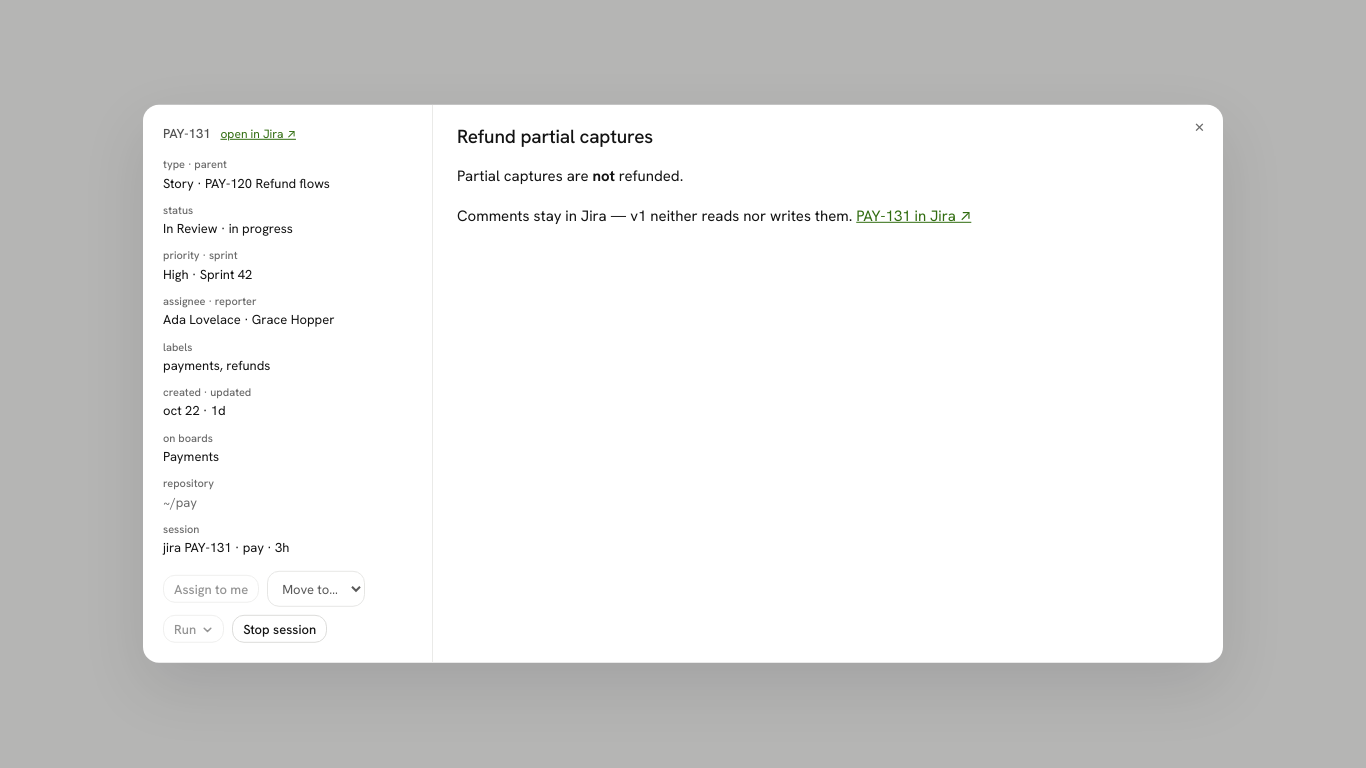
Scenario: JiraIssueModal — Stop session (Jira phase 5) › says the server's sentence and reloads nothing when the stop is refused
Expected: the text "not" is shown, [592, 166, 615, 186]
Click the button "Stop session": (280, 629) [232, 615, 327, 643]
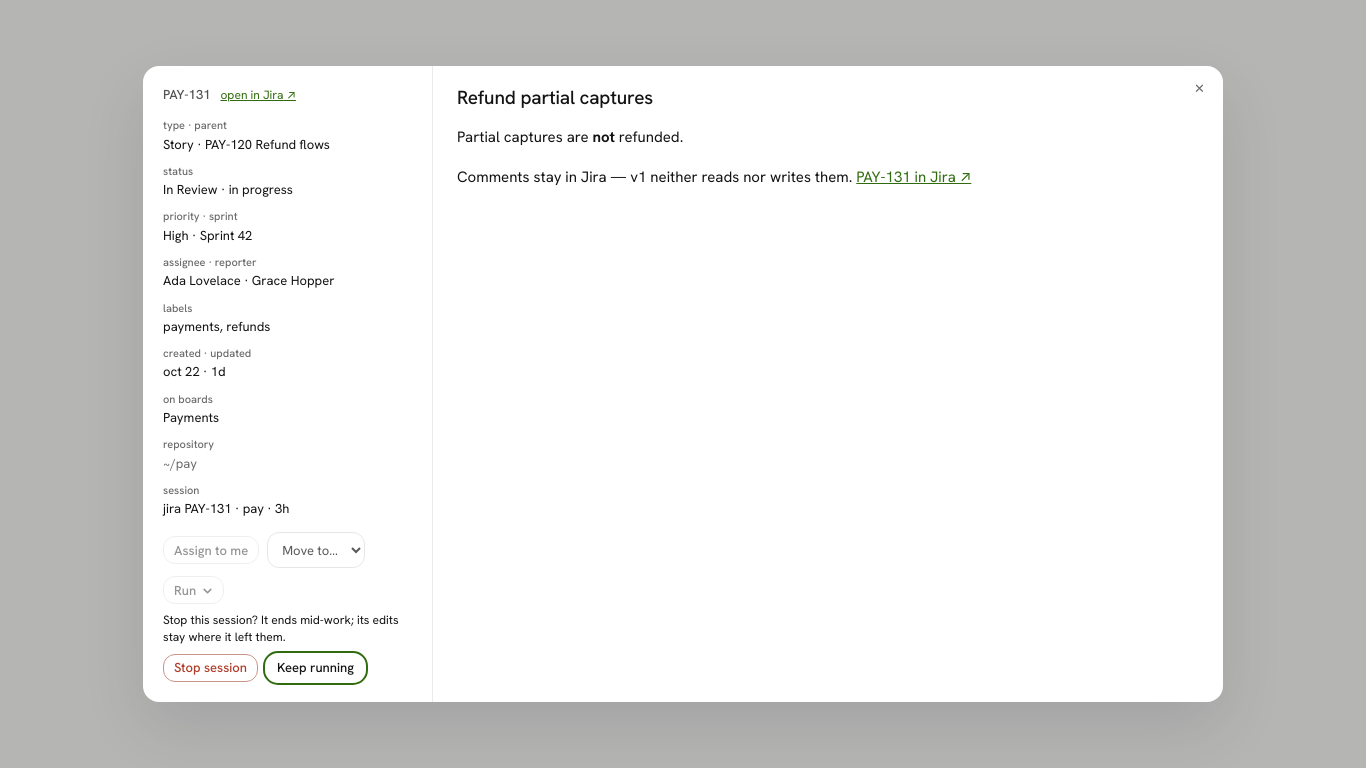
Click the button with test id "jira-stop-confirm-accept": (210, 668) [163, 654, 258, 682]
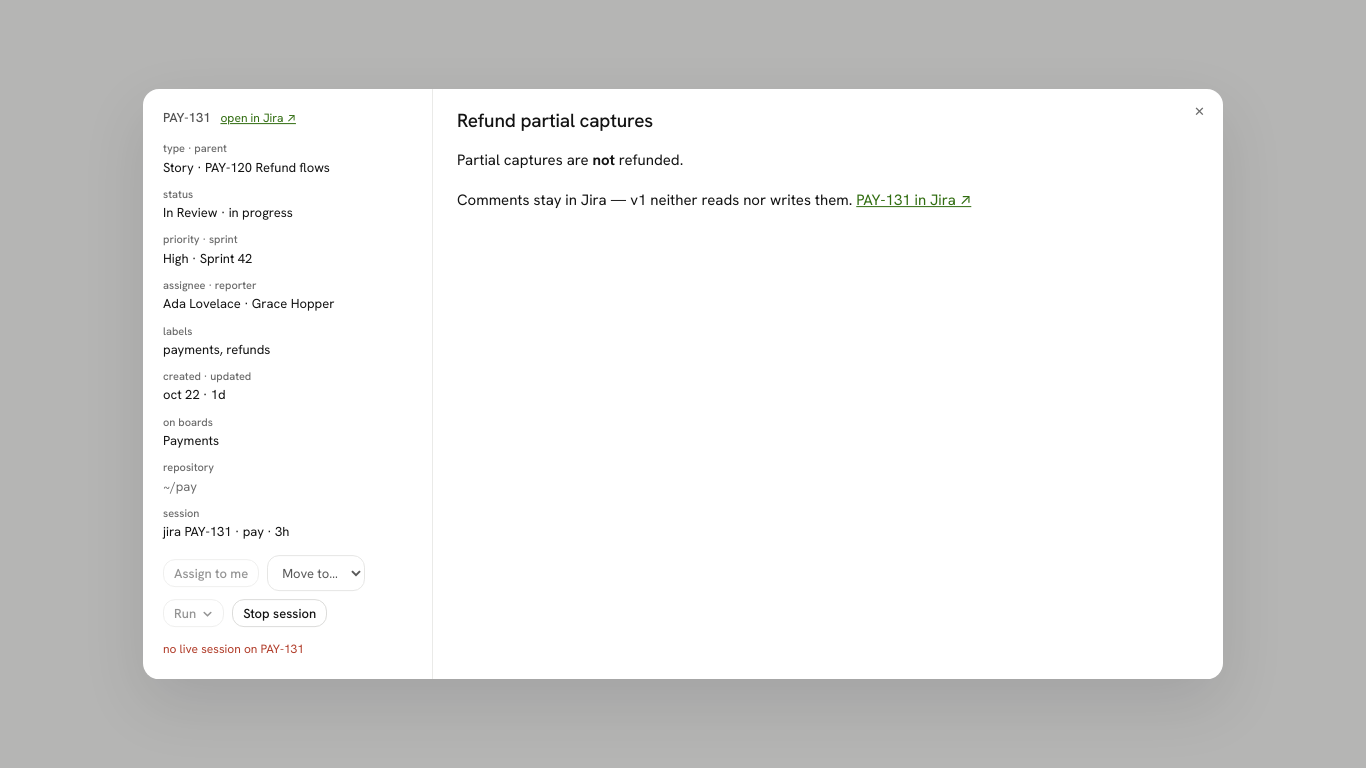
Now the message reads "no live session on PAY-131", box [163, 642, 304, 658]
